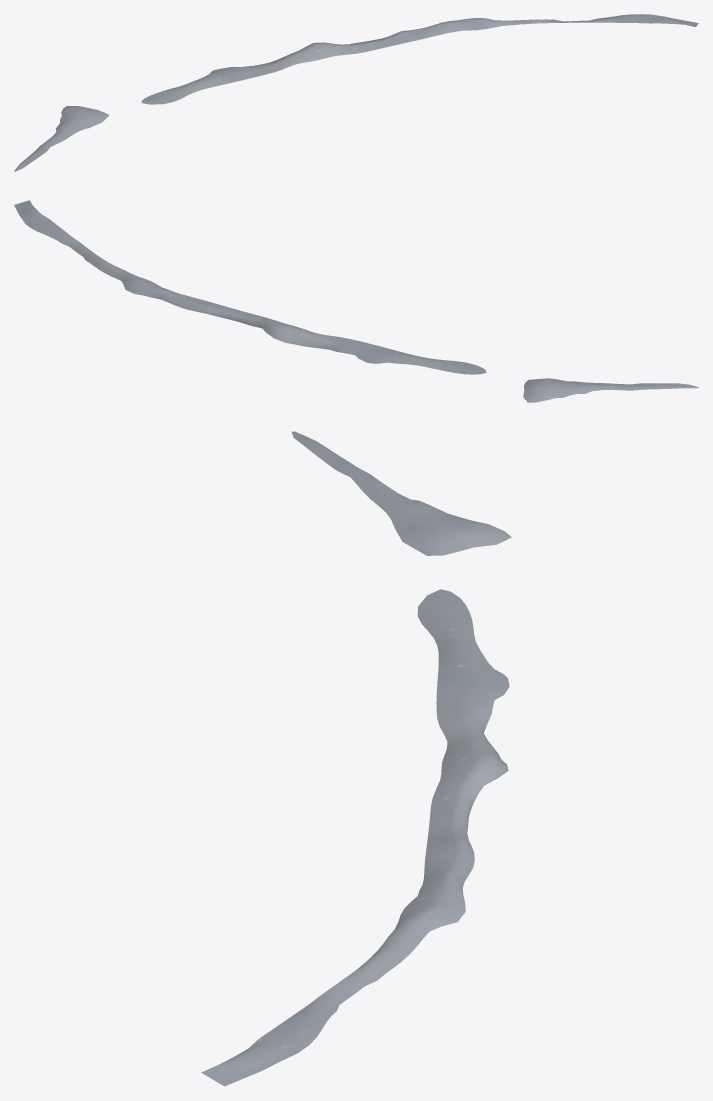
The model's file is pref_sm_beach_winter_bottom_bottomsnow01_lv3.fbx.
The picture shows the model from 3 angles, top to bottom: view 1: azimuth 30°, elevation 25°; view 2: azimuth 150°, elevation 25°; view 3: azimuth 270°, elevation 25°; orthographic projection. The views are drawn at different scales.
Visible parts, largest first — view 1: pref_sm_beach_winter_bottom_bottomsnow01_lv3; view 2: pref_sm_beach_winter_bottom_bottomsnow01_lv3; view 3: pref_sm_beach_winter_bottom_bottomsnow01_lv3.
Boxes of the visible parts, x1,y1,x2,y2 form: pref_sm_beach_winter_bottom_bottomsnow01_lv3: (14,14,698,171); pref_sm_beach_winter_bottom_bottomsnow01_lv3: (14,200,698,402); pref_sm_beach_winter_bottom_bottomsnow01_lv3: (201,431,511,1086).
Size of the model in its own units: 28.52 by 0.4132 by 5.75.
